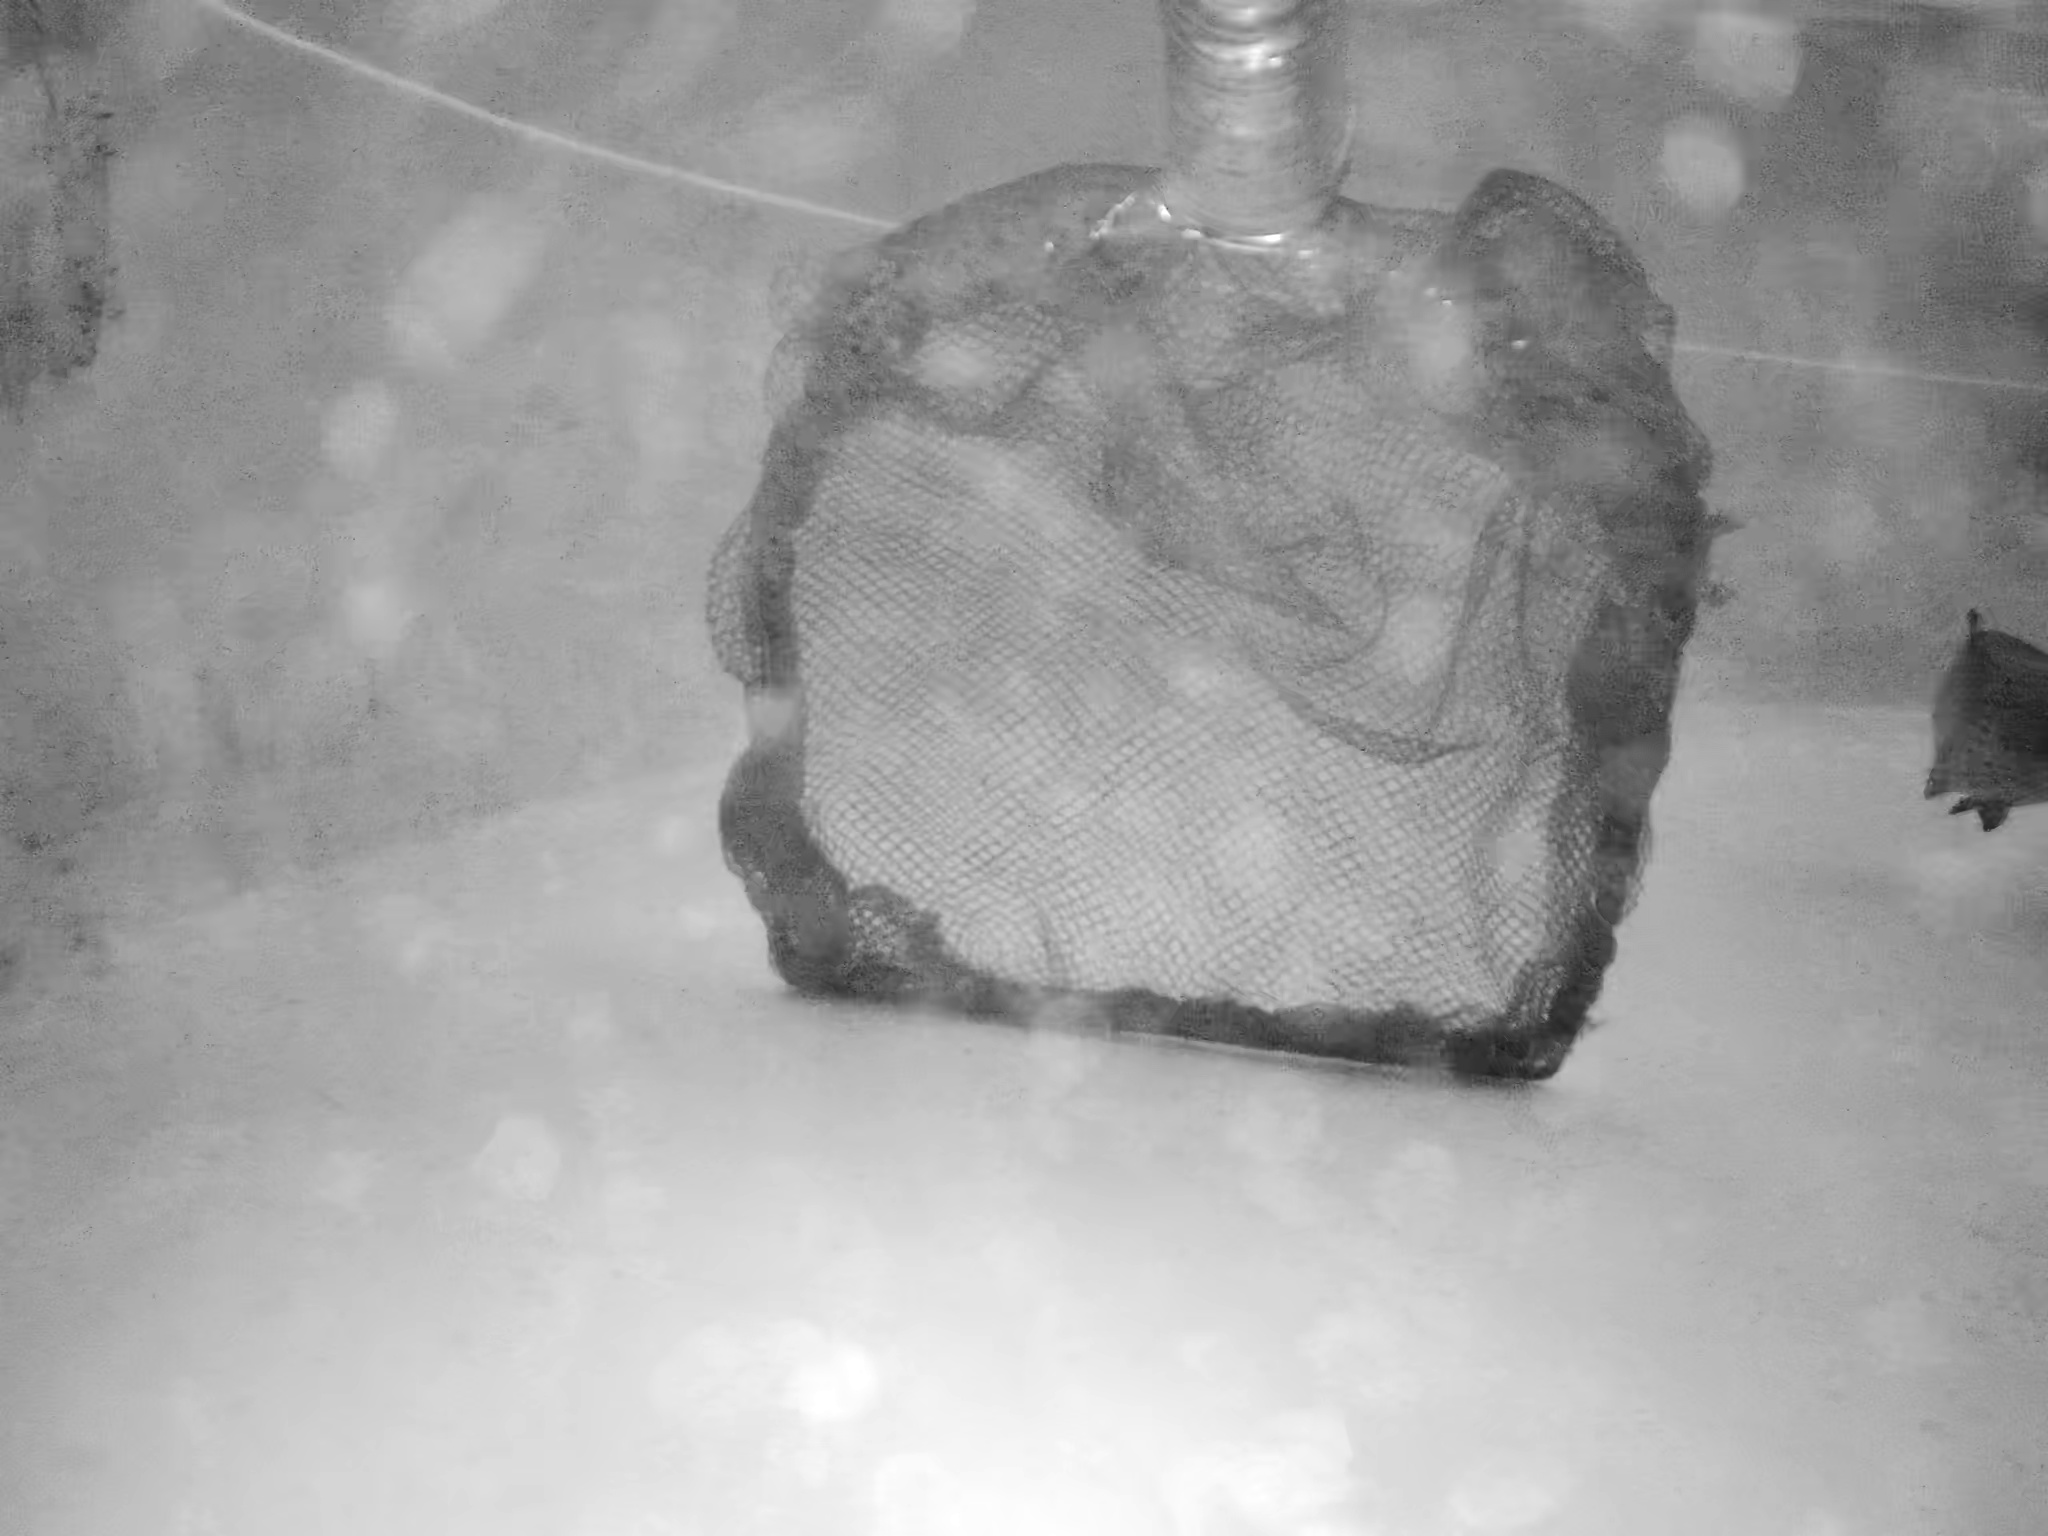fish: (1921, 599, 2048, 850)
